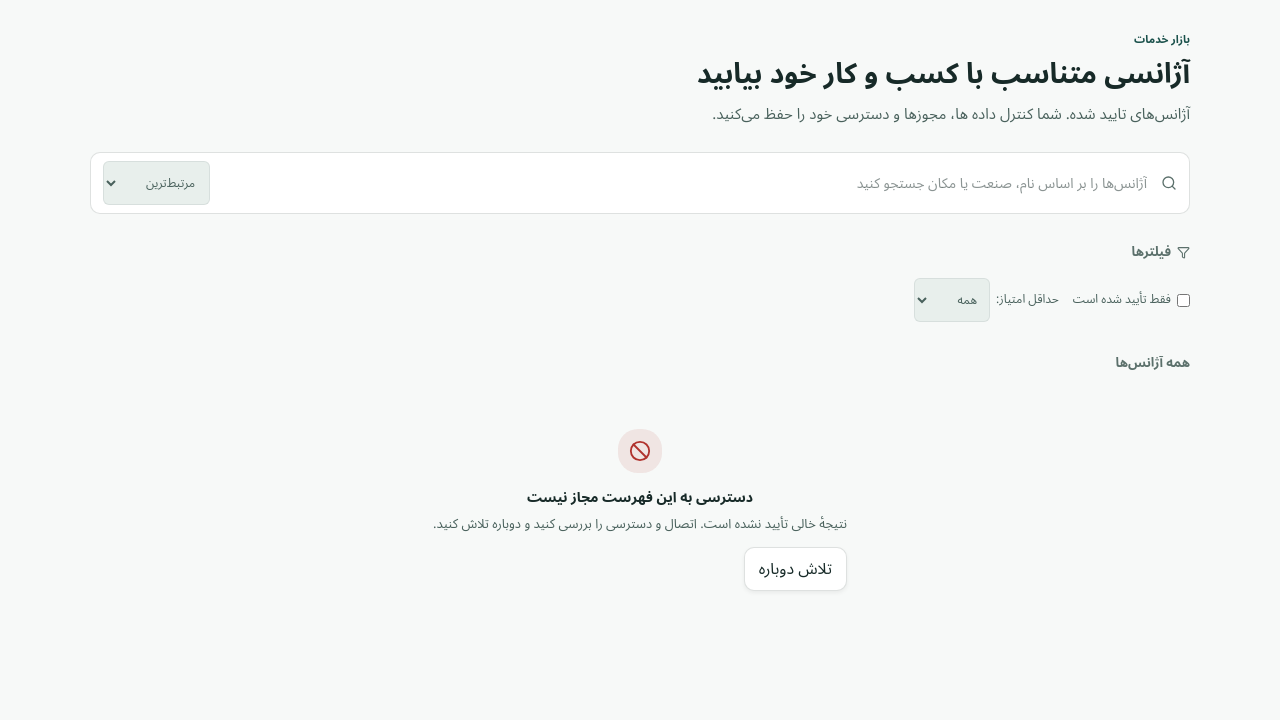
Test: HTTP 401 never looks like an empty search; a retry is a GET only
Check: the message shows "دسترسی به این فهرست مجاز نیست", box [527, 483, 753, 512]
Click the button "تلاش دوباره": (795, 569) [744, 547, 847, 591]
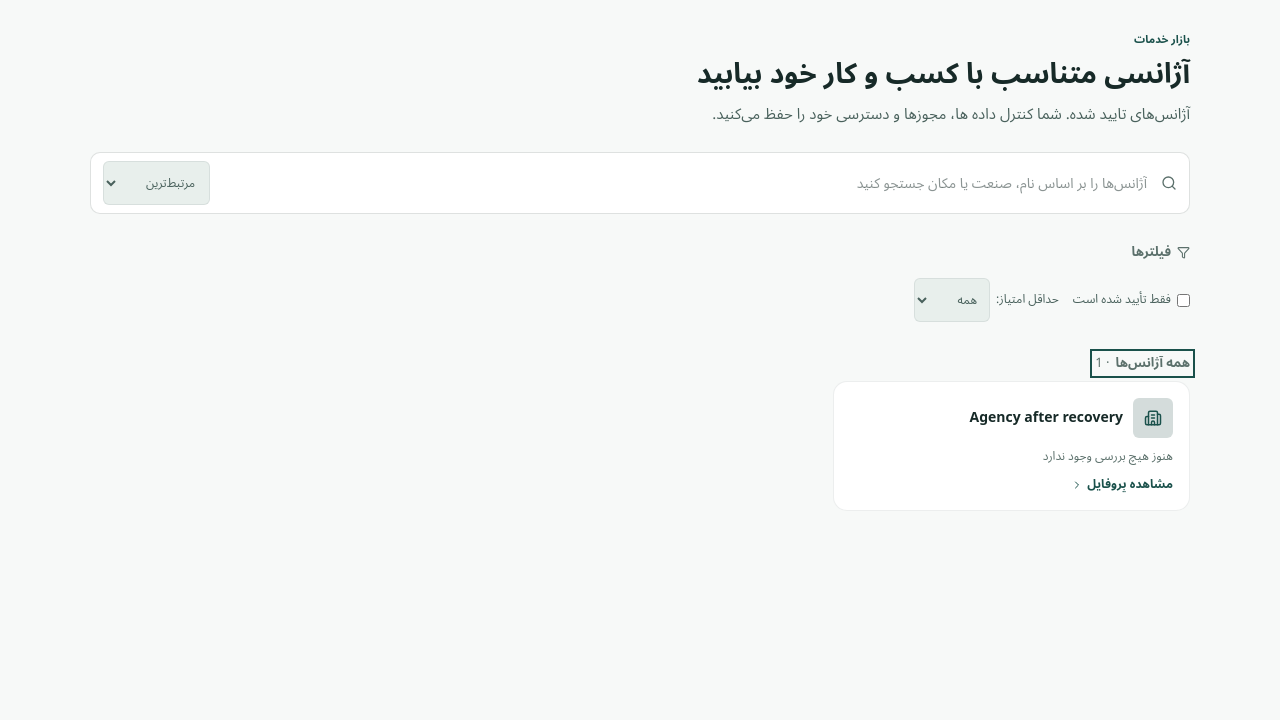
Check: the text "Agency after recovery" is shown, box [970, 407, 1123, 428]
